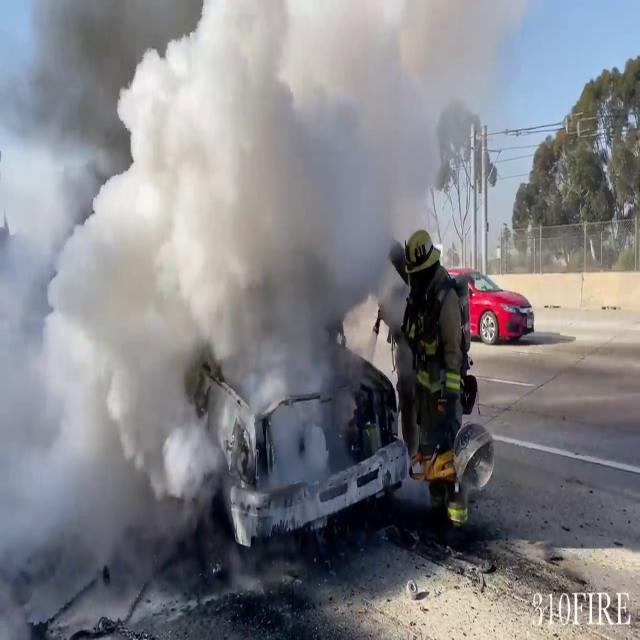Smoke: (1, 0, 420, 604)
